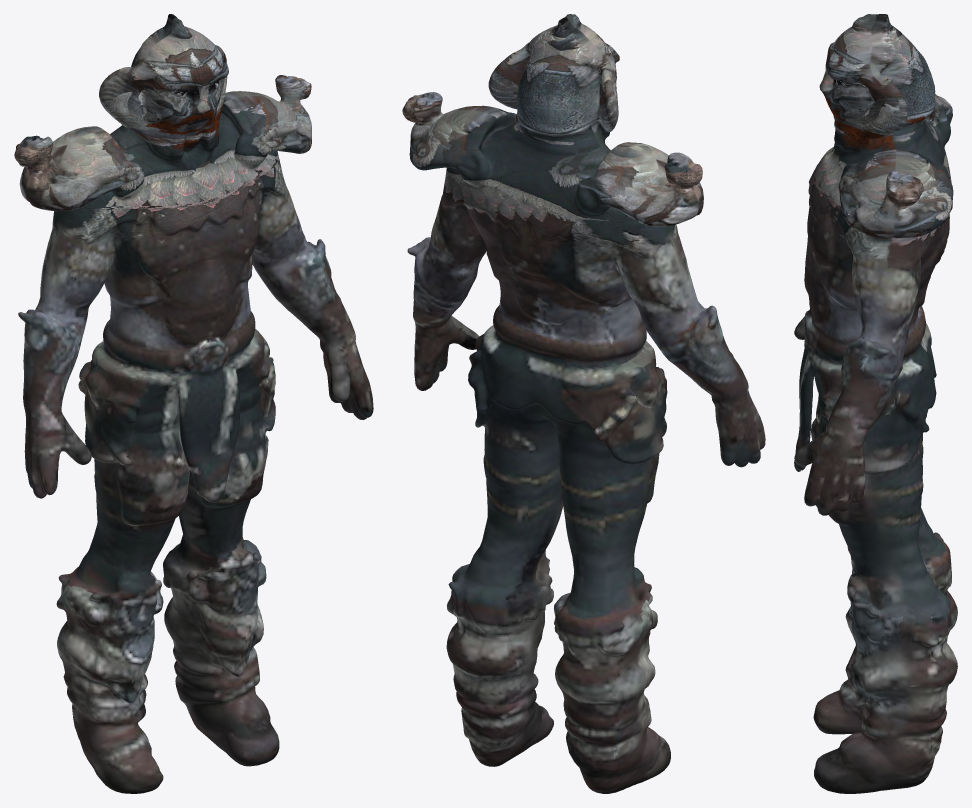
Rendered from yandir-the-butcher-overview-v2.glb.
The picture shows the model from 3 angles, left to right: view 1: azimuth 30°, elevation 25°; view 2: azimuth 150°, elevation 25°; view 3: azimuth 270°, elevation 25°; orthographic projection.
Parts seen in each view (by area): view 1: yandir-the-butcher-static-v1; view 2: yandir-the-butcher-static-v1; view 3: yandir-the-butcher-static-v1.
Boxes of the visible parts, x1,y1,x2,y2 form: yandir-the-butcher-static-v1: (14, 14, 373, 793); yandir-the-butcher-static-v1: (402, 14, 765, 793); yandir-the-butcher-static-v1: (794, 14, 957, 793).
Size of the model in its own units: 0.9414 by 1.99 by 0.399.
Materials: 1 (1 with a texture image).
